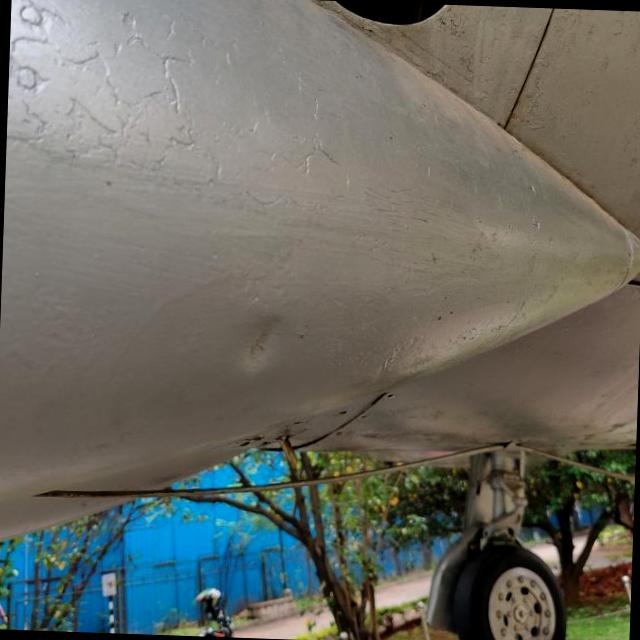dent: (216, 292, 307, 388)
